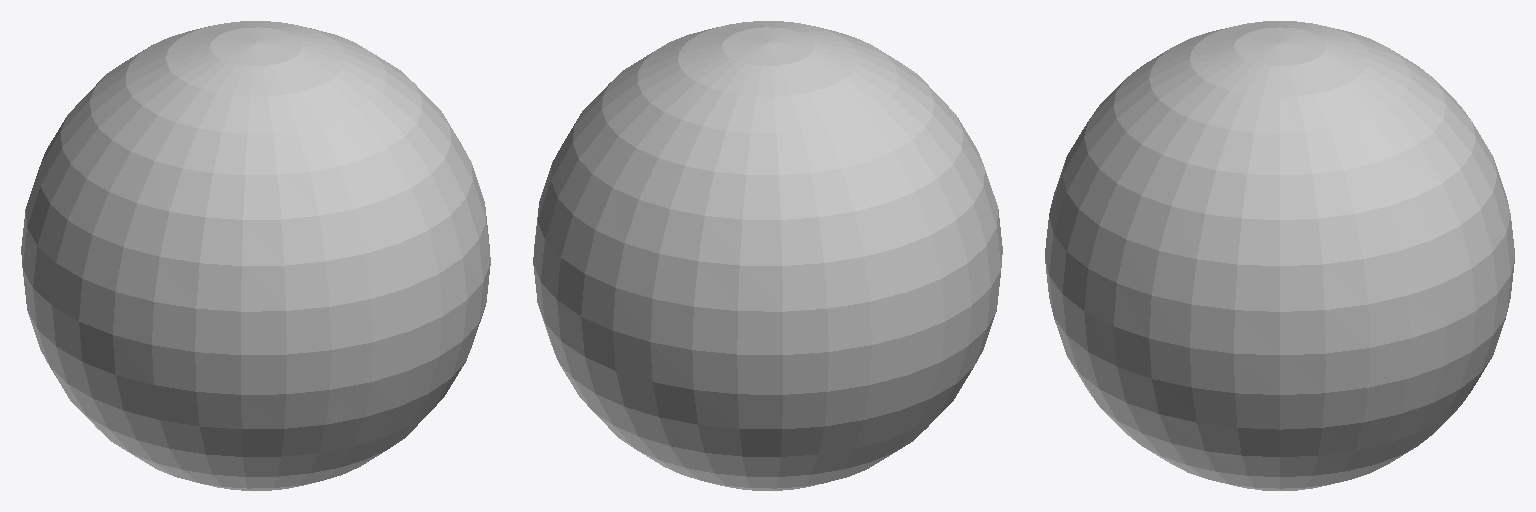
Rendered from lip piercing - Copy.obj.
3 views of the same model, side by side, from view 1: azimuth 30°, elevation 25°; view 2: azimuth 150°, elevation 25°; view 3: azimuth 270°, elevation 25° (orthographic).
Parts seen in each view (by area): view 1: Face.002; view 2: Face.002; view 3: Face.002.
Boxes of the visible parts, box(x1,y1,x2,y2) form: Face.002: box(21, 21, 490, 490); Face.002: box(533, 21, 1002, 490); Face.002: box(1045, 21, 1514, 490).
Bounding box in the file's own units: 0.004 × 0.004 × 0.004.